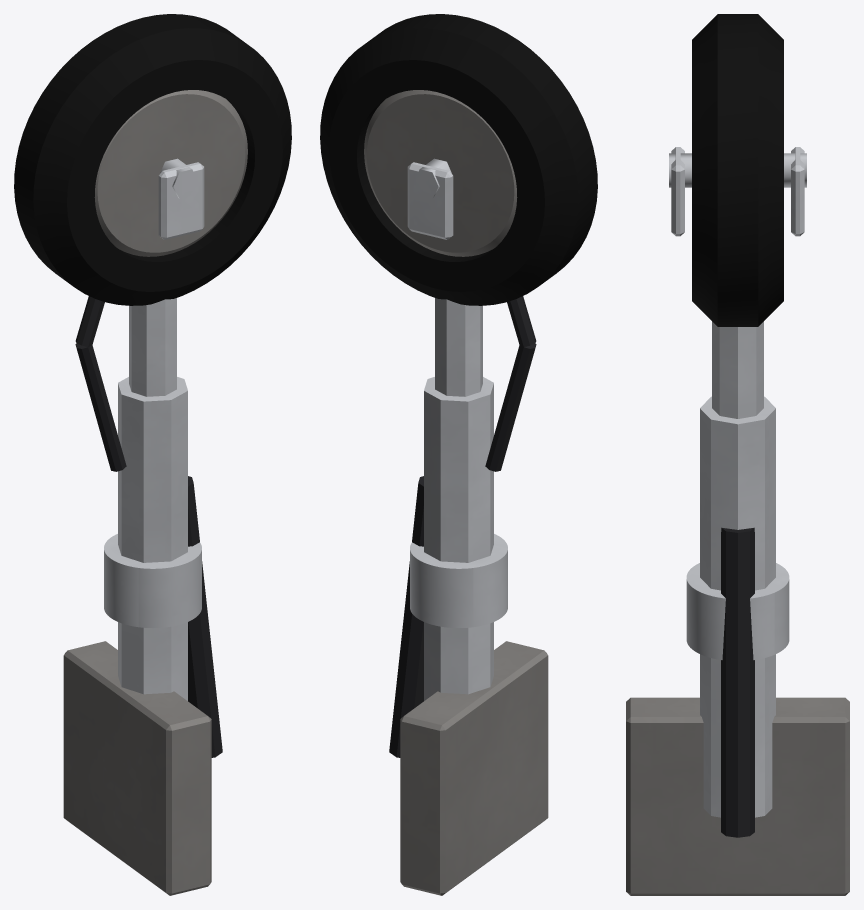
Rendered from ax_gear_01_nose_gear_m_stowed.glb.
The picture shows the model from 3 angles, left to right: view 1: azimuth 30°, elevation 25°; view 2: azimuth 150°, elevation 25°; view 3: azimuth 270°, elevation 25°; orthographic projection. The views are drawn at different scales.
Visible parts, largest first — view 1: wheel_tyres, gear_leg, mount_block, wheel_hubs, gear_links, gear_axles; view 2: wheel_tyres, gear_leg, mount_block, wheel_hubs, gear_links, gear_axles; view 3: mount_block, gear_leg, wheel_tyres, gear_links, gear_axles.
Part boxes in pixels (x1,y1,x2,y2): wheel_tyres: [14, 14, 291, 305]; gear_leg: [104, 162, 204, 700]; mount_block: [63, 641, 211, 895]; wheel_hubs: [94, 90, 247, 256]; gear_links: [75, 296, 222, 757]; gear_axles: [160, 158, 198, 198]; wheel_tyres: [320, 14, 597, 305]; gear_leg: [407, 162, 507, 700]; mount_block: [400, 641, 548, 895]; wheel_hubs: [364, 90, 517, 256]; gear_links: [389, 296, 536, 757]; gear_axles: [413, 158, 451, 198]; mount_block: [626, 697, 849, 895]; gear_leg: [671, 147, 804, 817]; wheel_tyres: [692, 14, 783, 326]; gear_links: [721, 527, 754, 837]; gear_axles: [669, 153, 806, 187].
Bounding box in the file's own units: 0.6798 × 2.07 × 0.4862.
4 materials, 2 textured.
